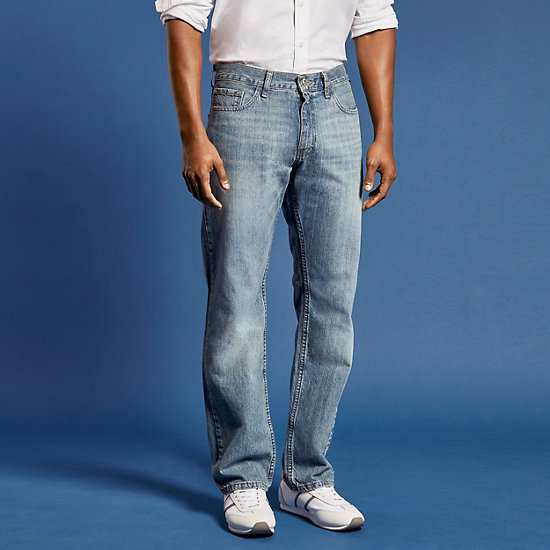Jeans: (190, 59, 364, 497)
